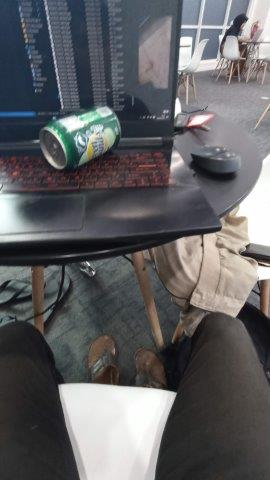kaleng: (39, 105, 121, 170)
